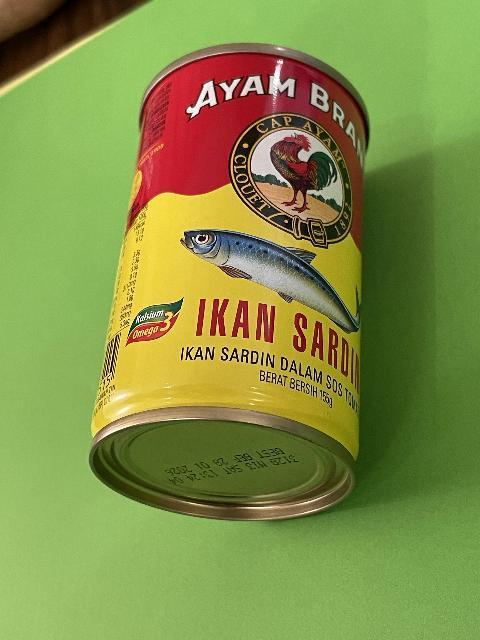foodcan: (88, 40, 372, 524)
